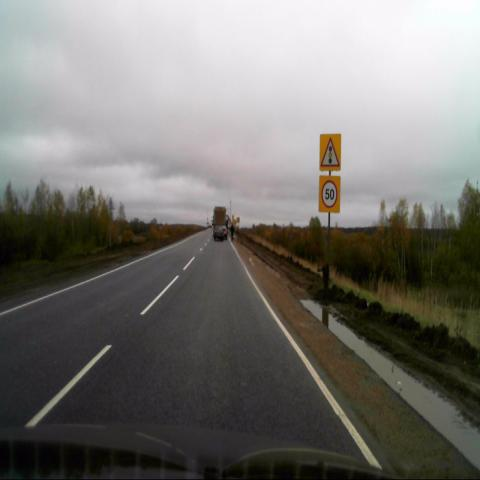1_8: (319, 132, 341, 171)
